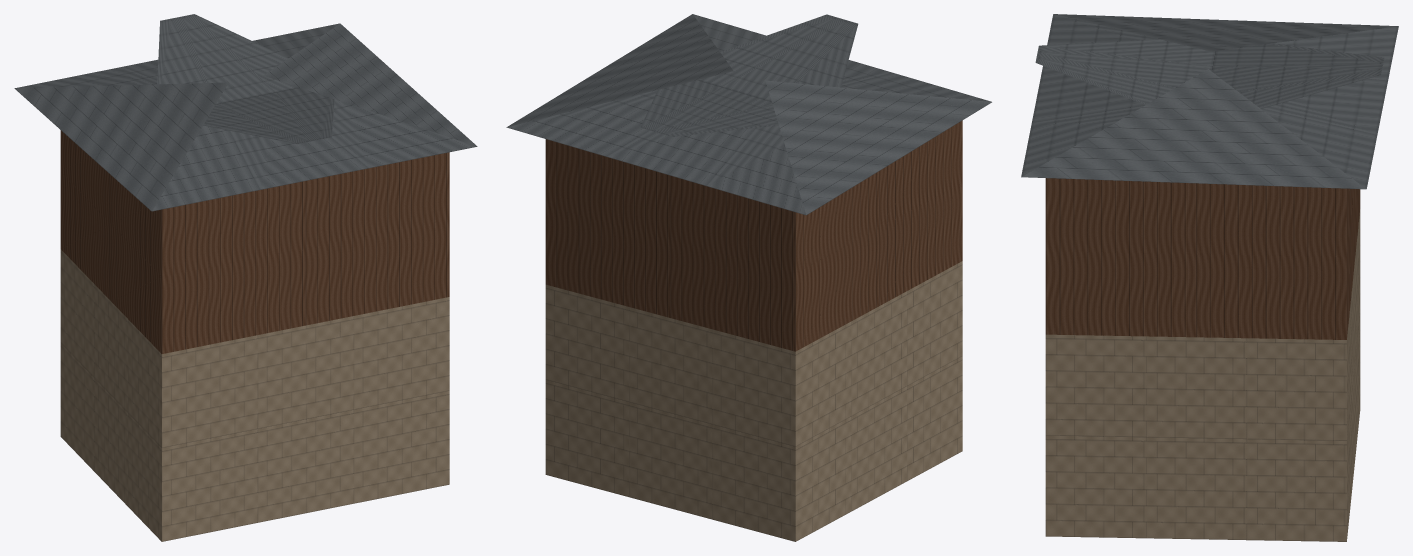
File: bld_c-41_-41_817.gltf
3 renders of one model, left to right at view 1: azimuth 30°, elevation 25°; view 2: azimuth 150°, elevation 25°; view 3: azimuth 270°, elevation 25°, orthographic. The views are drawn at different scales.
Parts seen in each view (by area): view 1: bld_c-41_-41_817; view 2: bld_c-41_-41_817; view 3: bld_c-41_-41_817.
Boxes of the visible parts, left/top/right/bottom form: bld_c-41_-41_817: left=14, top=14, right=477, bottom=541; bld_c-41_-41_817: left=506, top=14, right=991, bottom=541; bld_c-41_-41_817: left=1021, top=14, right=1398, bottom=541.
Bounding box in the file's own units: 9.1 × 9.9 × 8.28.
Materials: 3 (3 with a texture image).
